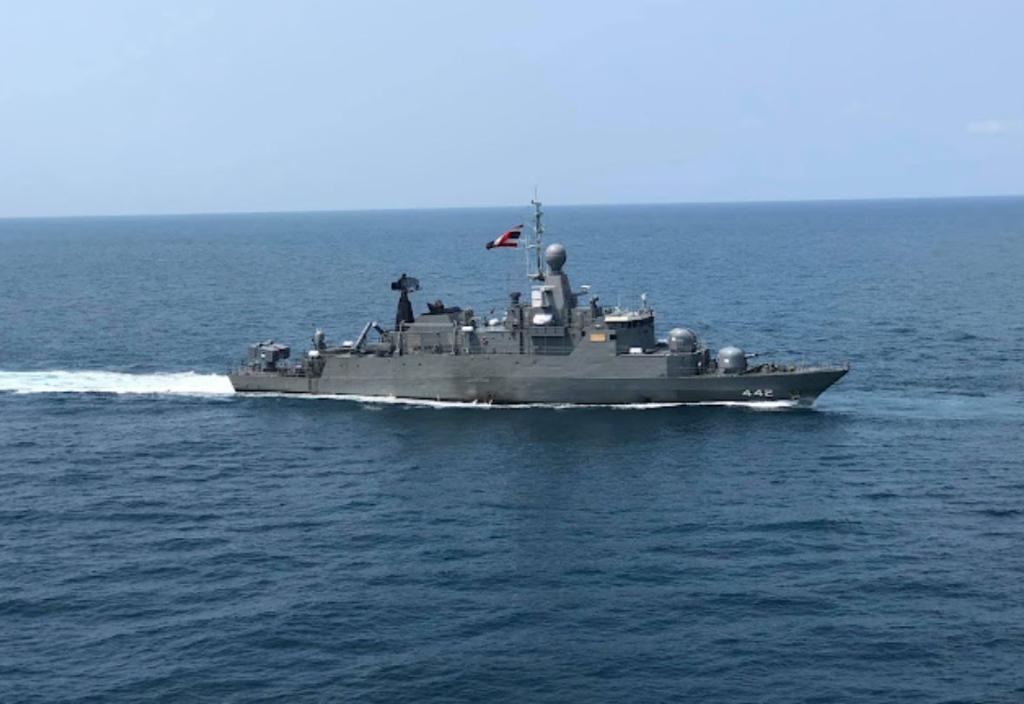Warship: (206, 219, 870, 427)
